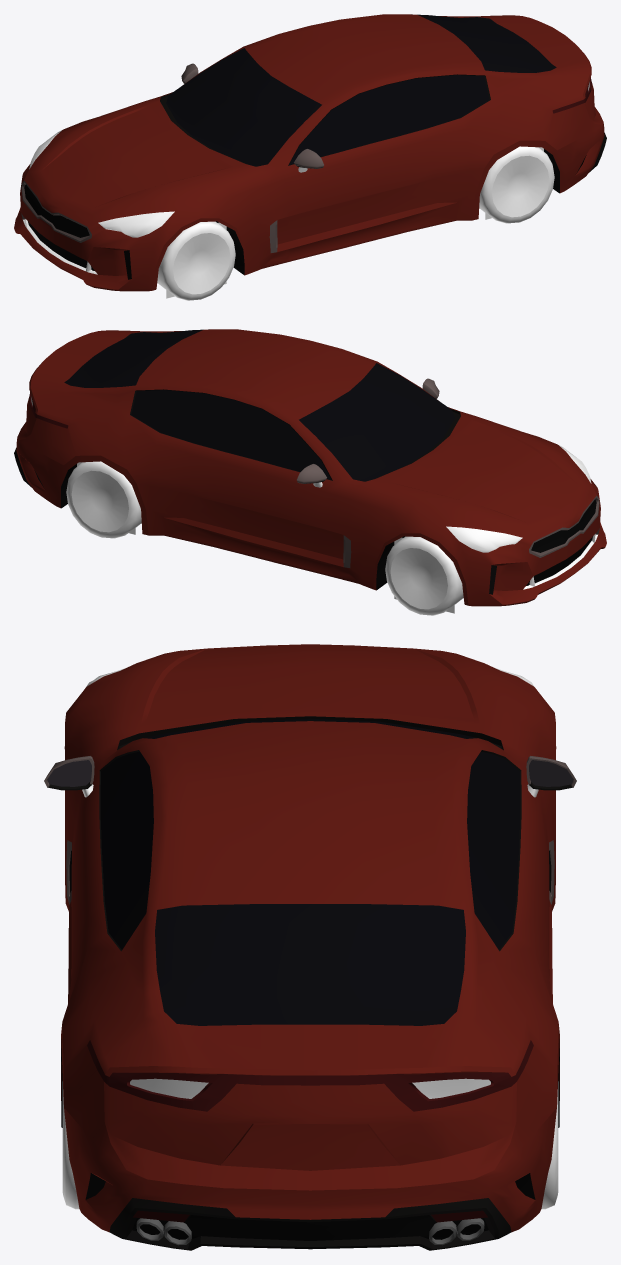
Rendered from 2020_Kia_Stinger_GT_Ver.7_LOW.fbx.
The picture shows the model from 3 angles, top to bottom: view 1: azimuth 30°, elevation 25°; view 2: azimuth 150°, elevation 25°; view 3: azimuth 270°, elevation 25°; orthographic projection. The views are drawn at different scales.
Parts seen in each view (by area): view 1: Body, Wheel_F_L_Rims, Wheel_R_L_Rims, Wheel_F_L_Tire, Wheel_R_L_Tire, Headlight_Cover, Mirror; view 2: Body, Wheel_F_R_Rims, Wheel_R_R_Rims, Wheel_F_R_Tire, Wheel_R_R_Tire, Headlight_Cover, Mirror, Front_Detail; view 3: Body, Mirror, Exhaust, Wheel_R_L_Tire, Wheel_R_R_Tire.
Part boxes in pixels (box(x1,y1,x2,y2)): Body: box(14, 14, 606, 291); Wheel_F_L_Rims: box(173, 233, 230, 294); Wheel_R_L_Rims: box(492, 155, 549, 217); Wheel_F_L_Tire: box(157, 221, 235, 300); Wheel_R_L_Tire: box(479, 146, 554, 223); Headlight_Cover: box(29, 130, 174, 237); Mirror: box(181, 63, 323, 168); Body: box(14, 329, 606, 606); Wheel_F_R_Rims: box(390, 548, 447, 609); Wheel_R_R_Rims: box(71, 470, 128, 532); Wheel_F_R_Tire: box(385, 536, 463, 615); Wheel_R_R_Tire: box(66, 461, 141, 538); Headlight_Cover: box(446, 445, 591, 552); Mirror: box(297, 378, 439, 483); Front_Detail: box(523, 534, 597, 589); Body: box(61, 644, 559, 1250); Mirror: box(44, 756, 576, 790); Exhaust: box(136, 1218, 484, 1245); Wheel_R_L_Tire: box(62, 1081, 79, 1209); Wheel_R_R_Tire: box(541, 1081, 558, 1209).
Bounding box in the file's own units: 20.51 × 5.81 × 8.87.
